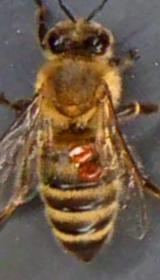varroa_mite: (65, 137, 101, 161), (78, 158, 113, 182)
